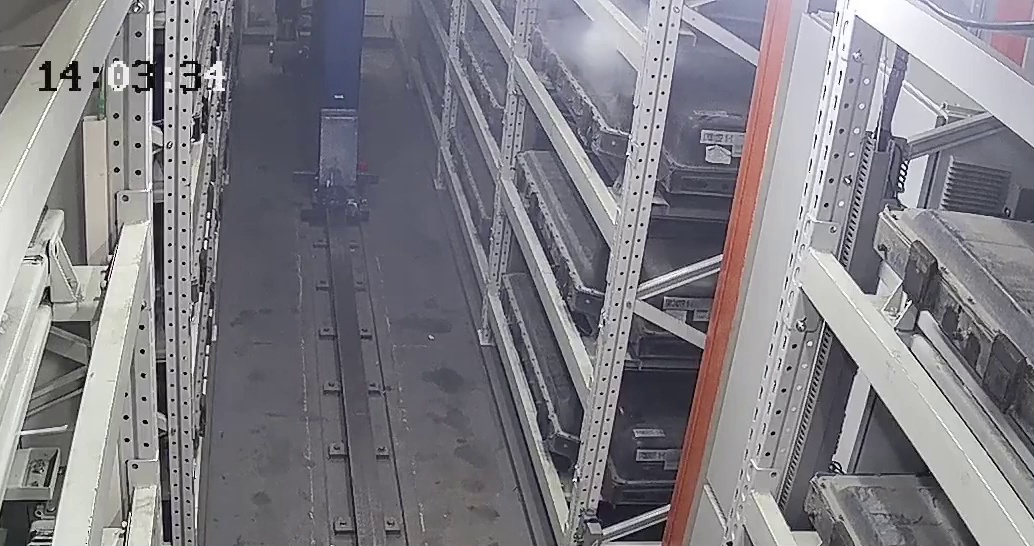smoke: (559, 2, 628, 82)
